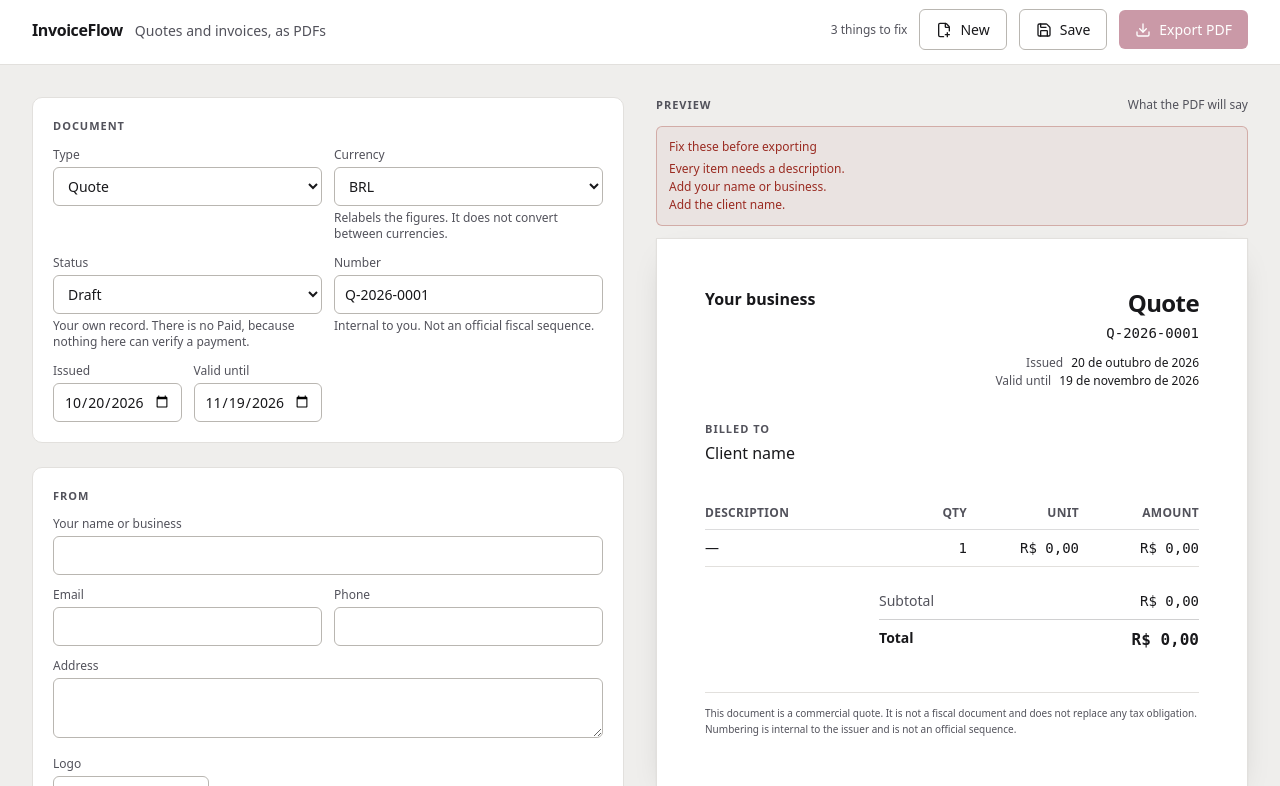
Scenario: saving and history › saves the open document
The image size is (1280, 786).
In the field labelled "Your name or business": {"x": 328, "y": 556} 53,536 -> 603,575, type "Estudio Acai"
(page scrolled)
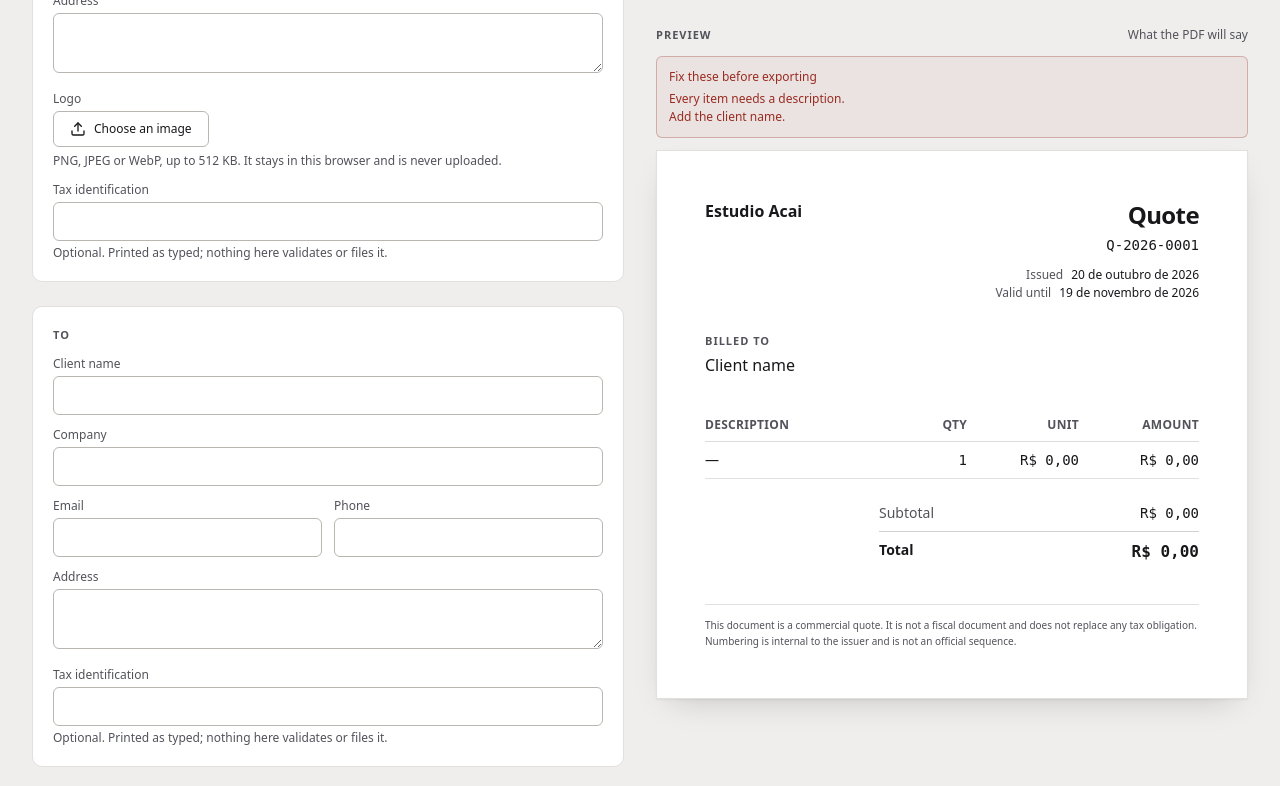
In the field labelled "Client name": {"x": 328, "y": 395} 53,376 -> 603,414, type "Cliente Um"
(page scrolled)
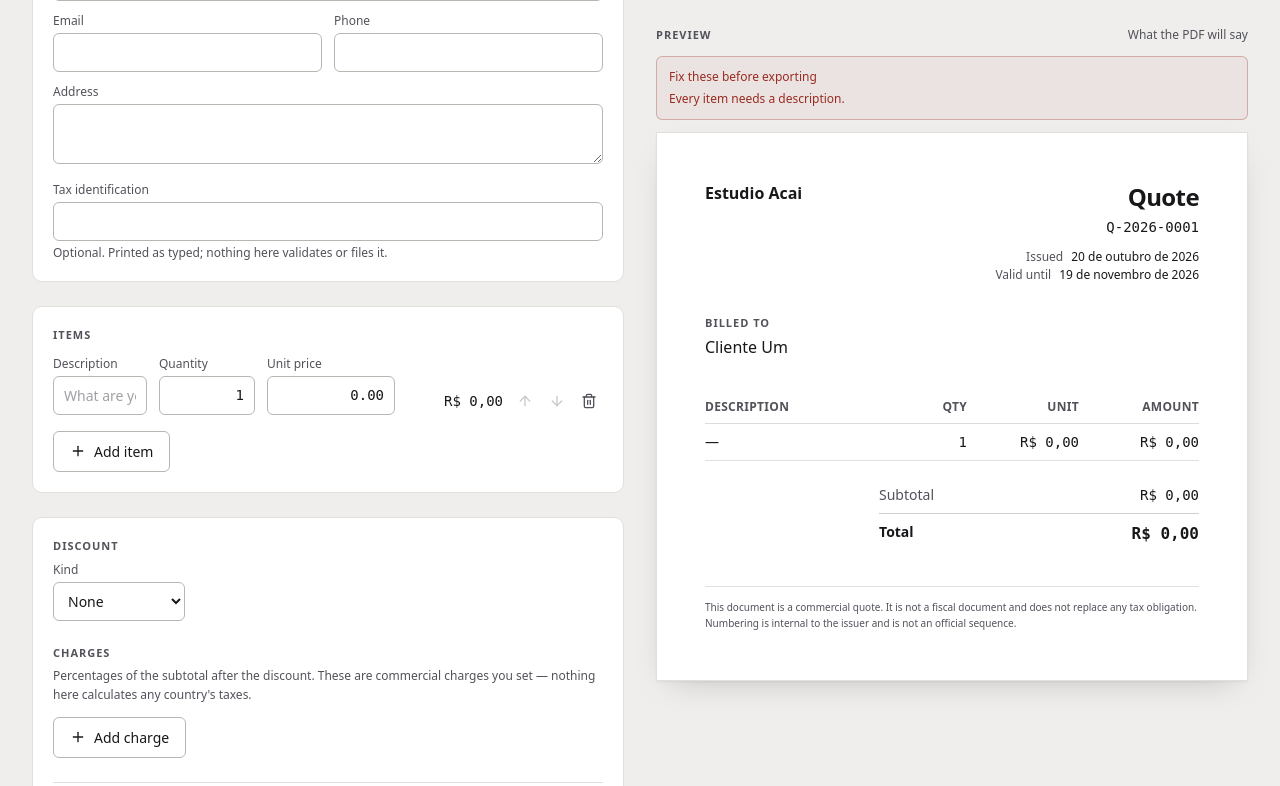
In the field labelled "Description": {"x": 100, "y": 395} 53,376 -> 147,414, type "Consulting"
(page scrolled)
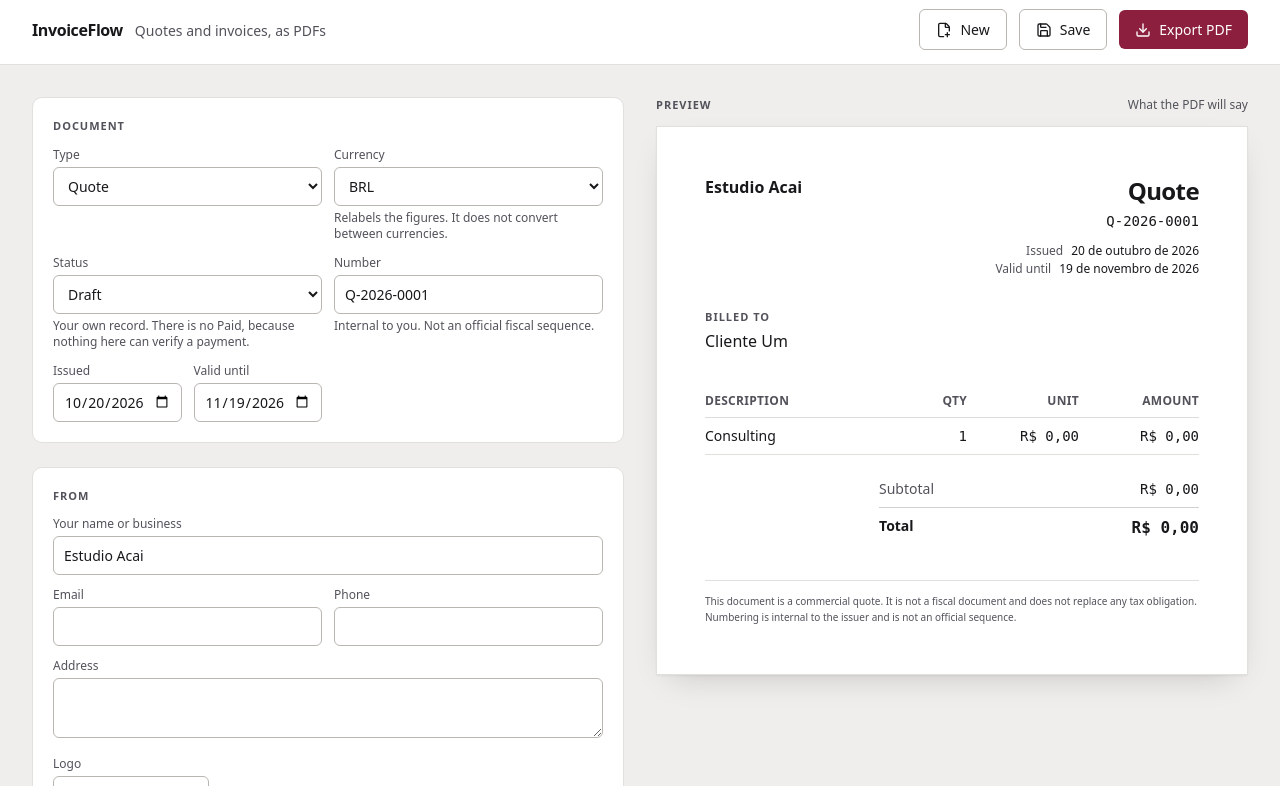
Click the button with aria-label "save document": {"x": 1063, "y": 30} 1019,9 -> 1107,50
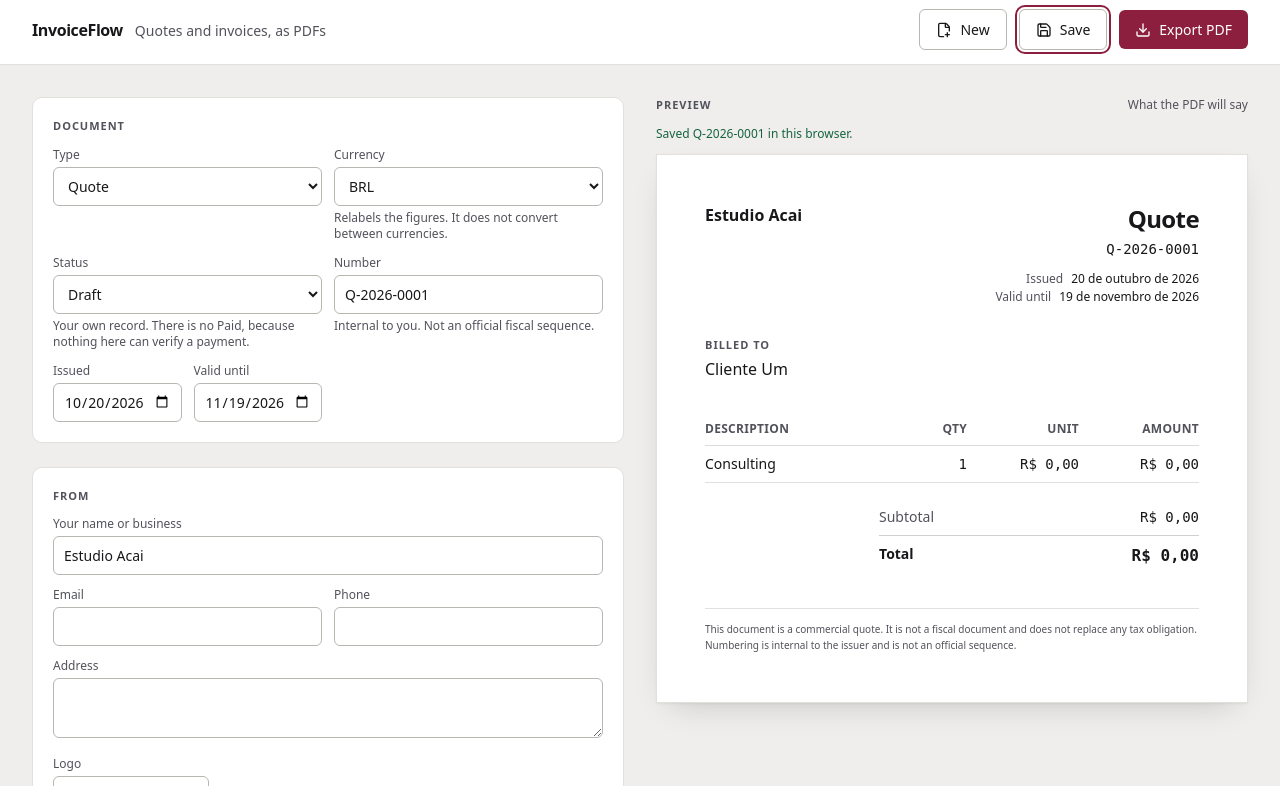
Expected: the message shows "Saved", 656,124 -> 693,142
